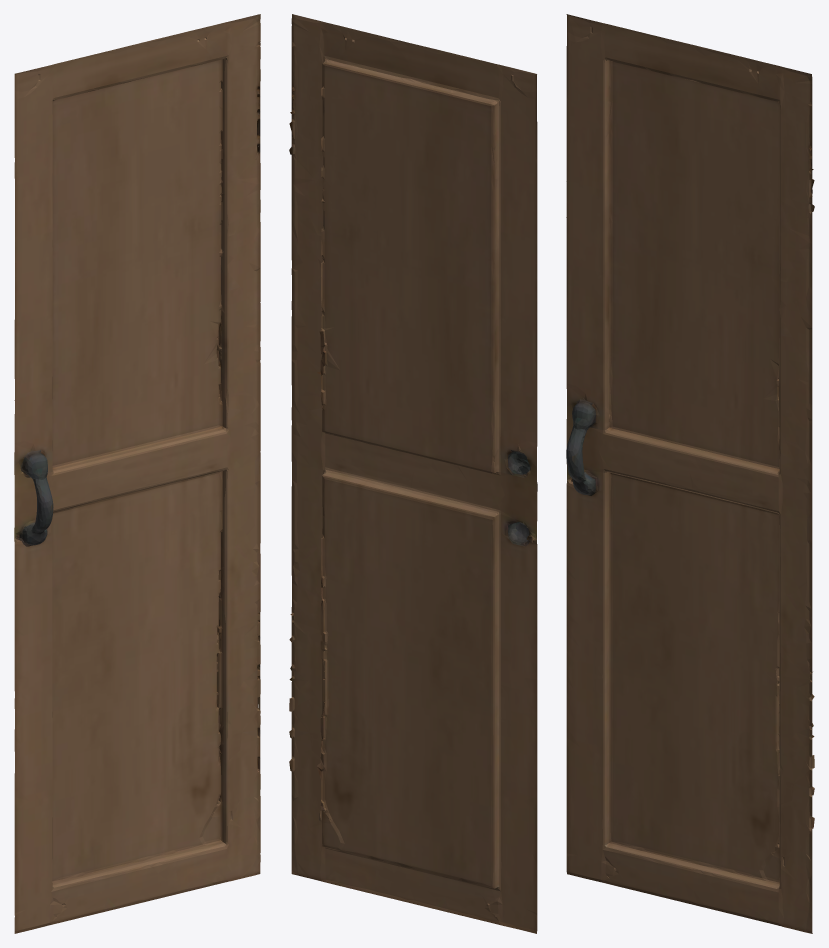
Rendered from door_right.glb.
3 renders of one model, left to right at view 1: azimuth 30°, elevation 25°; view 2: azimuth 150°, elevation 25°; view 3: azimuth 330°, elevation 25°, orthographic.
Visible parts, largest first — view 1: source_surface_0; view 2: source_surface_0; view 3: source_surface_0.
Part boxes in pixels (x1,y1,x2,y2): source_surface_0: (14, 14, 260, 933); source_surface_0: (289, 14, 537, 933); source_surface_0: (566, 14, 814, 933).
Size of the model in its own units: 0.7355 by 2.46 by 0.122.
1 material, 1 textured.
